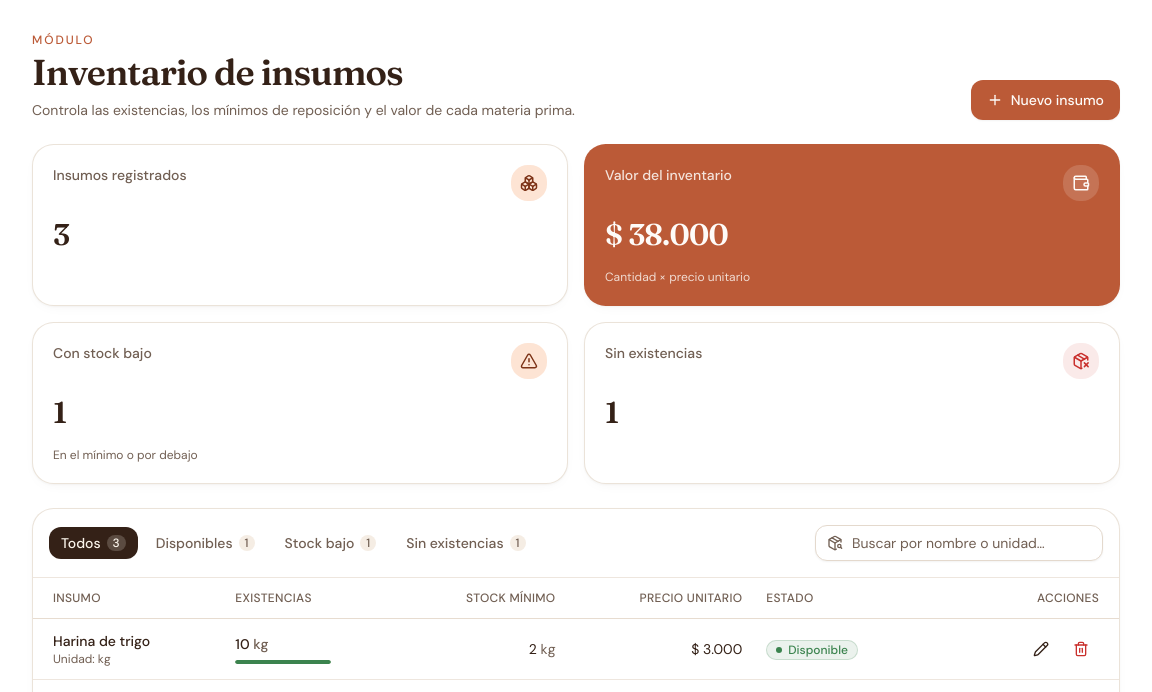
Test: Filtros y búsqueda › los filtros muestran sus contadores y filtran por estado
Expected: the cell "Harina de trigo Unidad: kg" is shown, 33,618 -> 223,679
Click the button "Stock bajo 1": x=330, y=543 272,527 -> 388,559
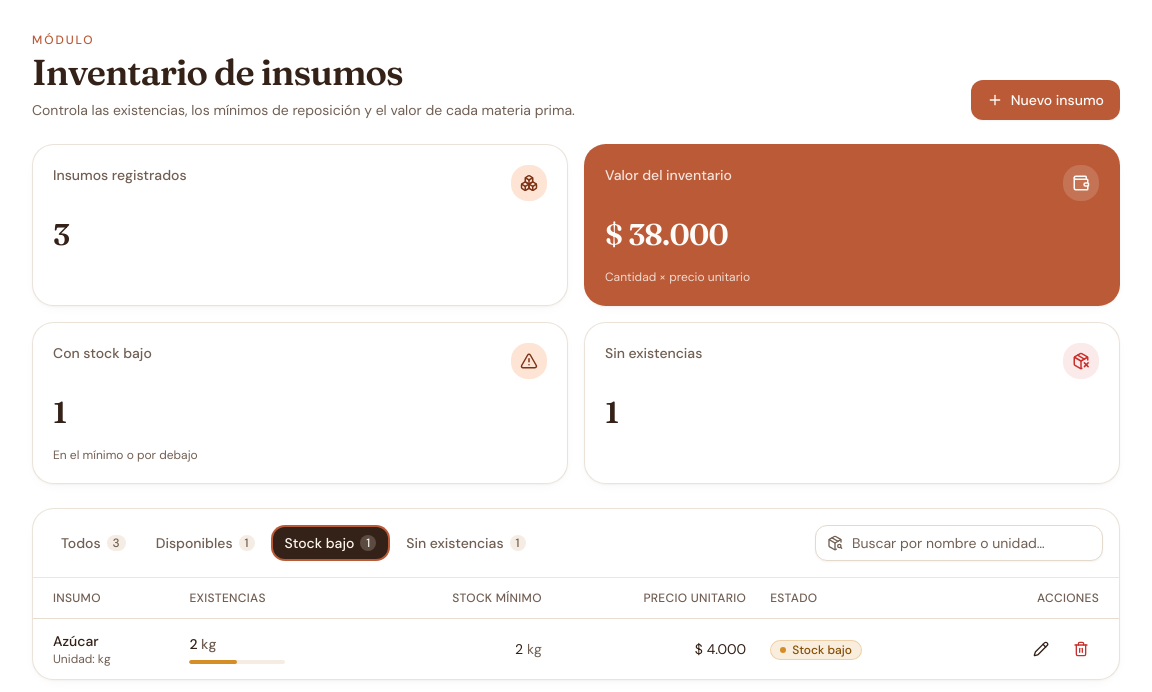
Expected: the cell "Azúcar Unidad: kg" is shown, 33,618 -> 177,678
Expected: the text "Harina de trigo" is gone
